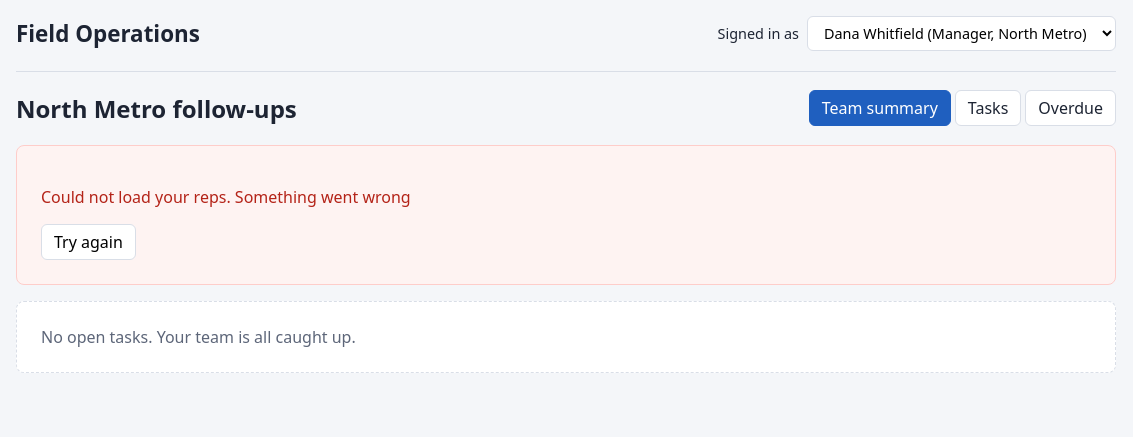
it: App › offers a retry when the manager's rep list fails to load
This screenshot has width=1133, height=437.
Click the button "Tasks" at (988, 108), box [955,90,1021,126]
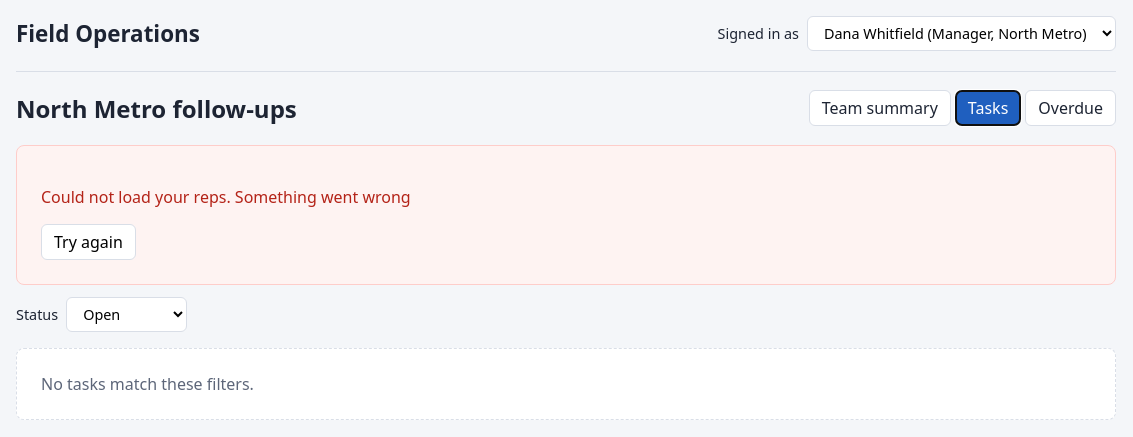
Expected: the message shows "Could not load your reps.", [41,186,235,208]
Click the button "Try again" at (88, 242), box [41,224,136,260]
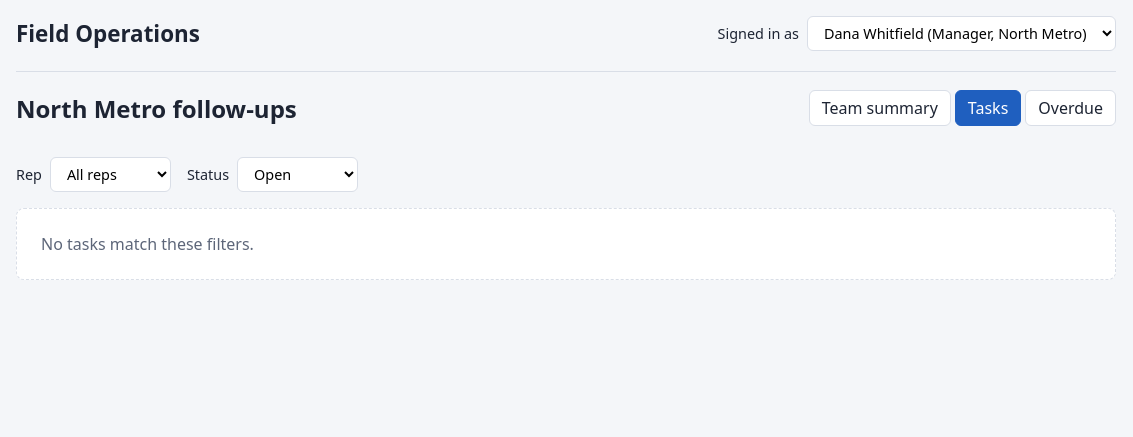
Expected: the message "Could not load your reps. Something went wrong Try again" is gone
